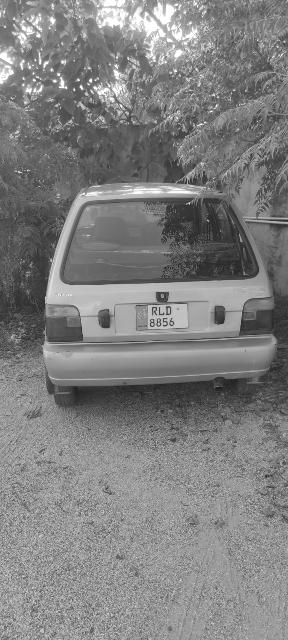Number: (149, 306, 175, 328)
